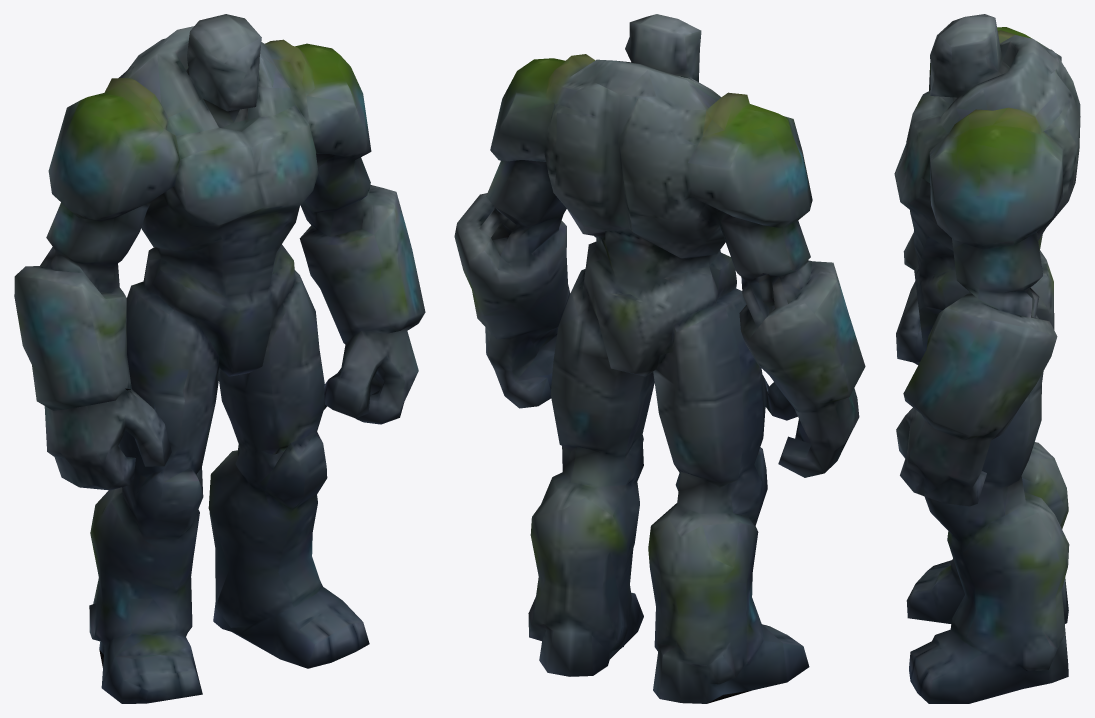
The model's file is detail_7_lo2.glb.
3 renders of one model, left to right at view 1: azimuth 30°, elevation 25°; view 2: azimuth 150°, elevation 25°; view 3: azimuth 270°, elevation 25°, orthographic.
Visible parts, largest first — view 1: Mesh_0.001; view 2: Mesh_0.001; view 3: Mesh_0.001.
Boxes of the visible parts, x1,y1,x2,y2 form: Mesh_0.001: (14,14,425,703); Mesh_0.001: (454,14,865,703); Mesh_0.001: (894,14,1080,703).
Bounding box in the file's own units: 0.6214 × 1.01 × 0.2725.
1 material, 1 textured.
